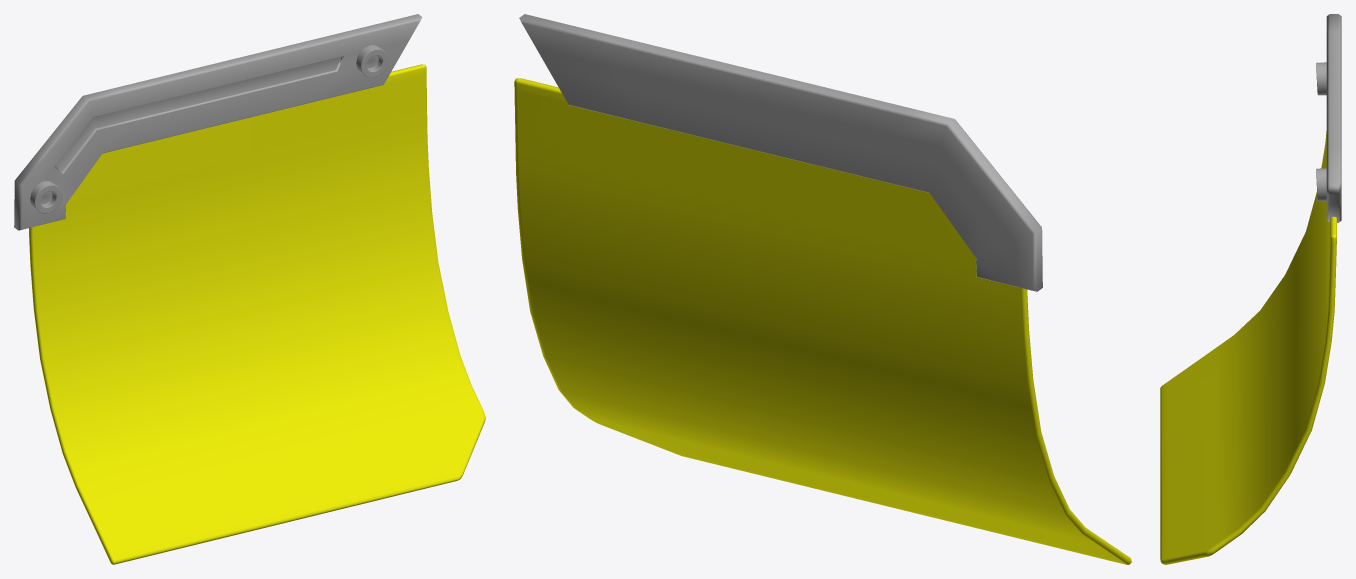
Rendered from Postit.fbx.
3 renders of one model, left to right at view 1: azimuth 30°, elevation 25°; view 2: azimuth 150°, elevation 25°; view 3: azimuth 270°, elevation 25°, orthographic. The views are drawn at different scales.
Visible parts, largest first — view 1: pasted__pPlane1; view 2: pasted__pPlane1; view 3: pasted__pPlane1.
Boxes of the visible parts, x1=… form: pasted__pPlane1: x1=14, y1=14, x2=485, y2=564; pasted__pPlane1: x1=514, y1=14, x2=1131, y2=564; pasted__pPlane1: x1=1160, y1=14, x2=1341, y2=564.
Bounding box in the file's own units: 0.0111 × 0.0102 × 0.00414.
